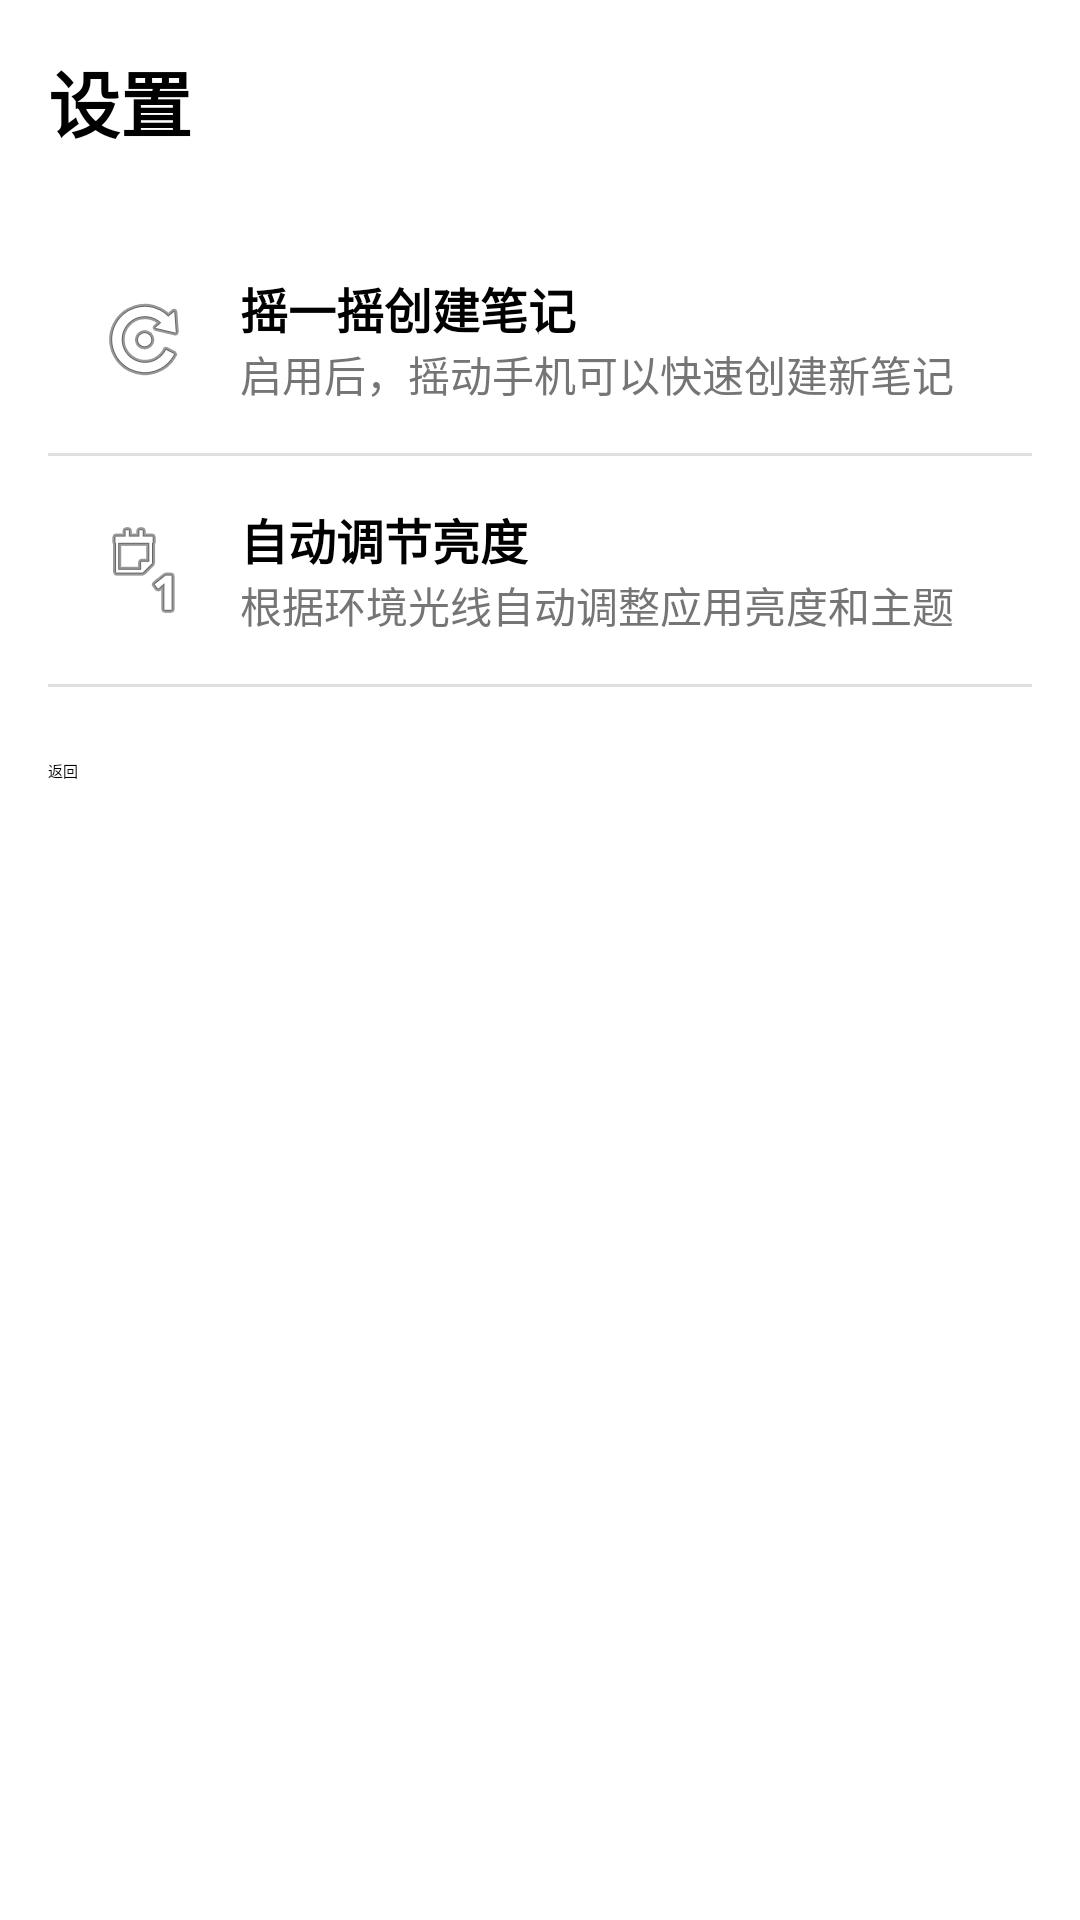

Screen size 1080w x 1920h. Icon name, then its box in pixels as (x1,y1,x2,y2):
rotate: (109,304,179,375)
